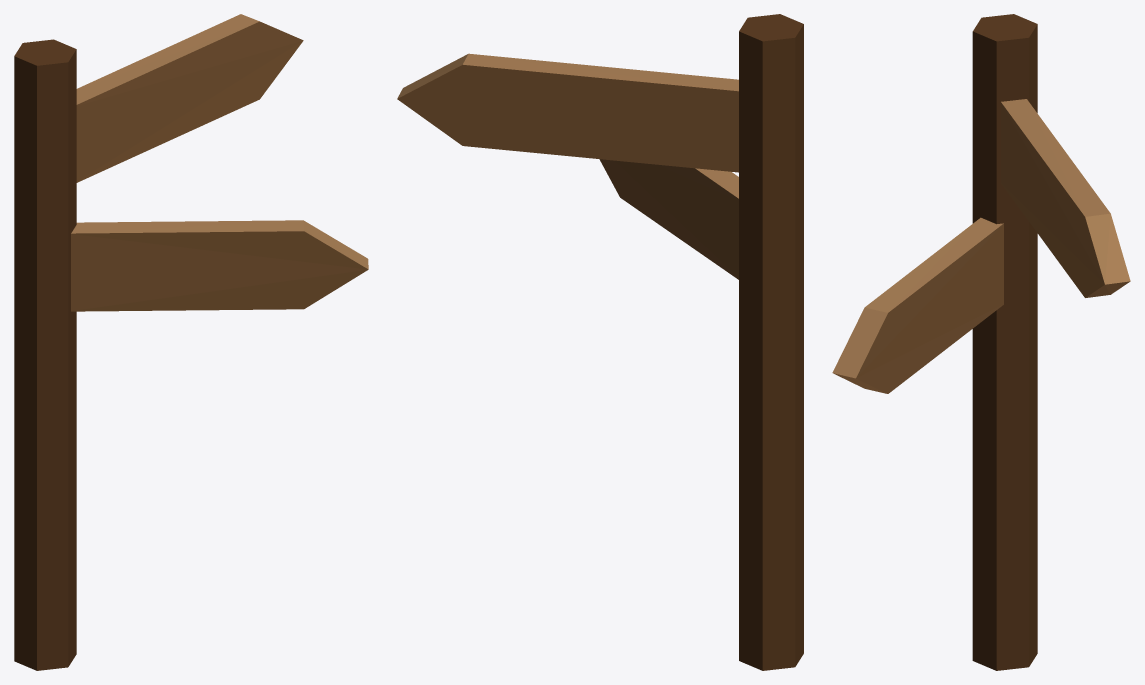
The model's file is sign.glb.
The picture shows the model from 3 angles, left to right: view 1: azimuth 30°, elevation 25°; view 2: azimuth 150°, elevation 25°; view 3: azimuth 270°, elevation 25°; orthographic projection. The views are drawn at different scales.
Parts seen in each view (by area): view 1: base; view 2: base; view 3: base.
Part boxes in pixels (left/top/right/bottom): base: left=14, top=14, right=368, bottom=670; base: left=397, top=14, right=803, bottom=670; base: left=832, top=14, right=1130, bottom=670.
Bounding box in the file's own units: 0.3574 × 0.62 × 0.2663.
